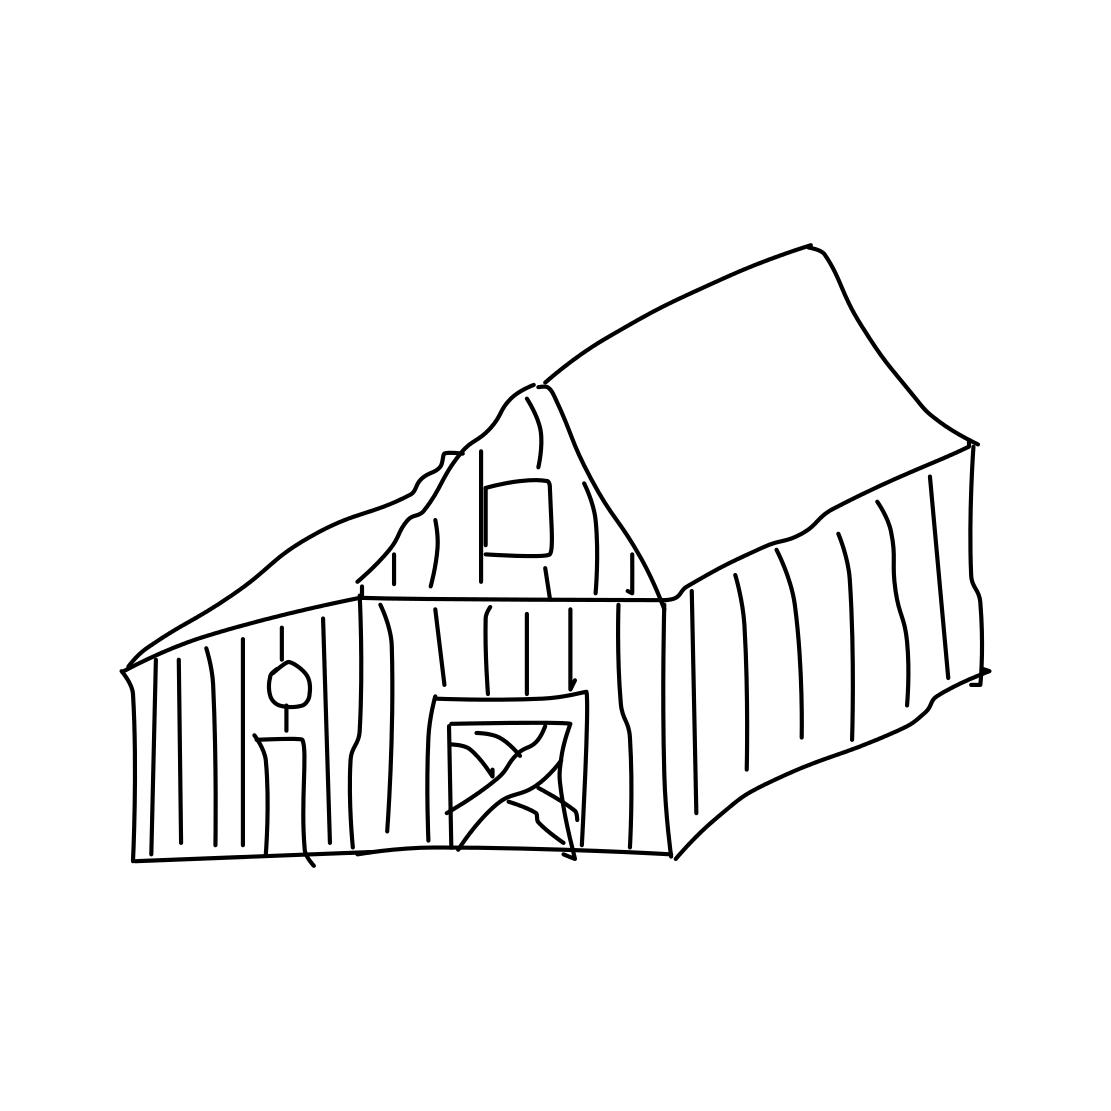House: (92, 237, 1040, 872)
